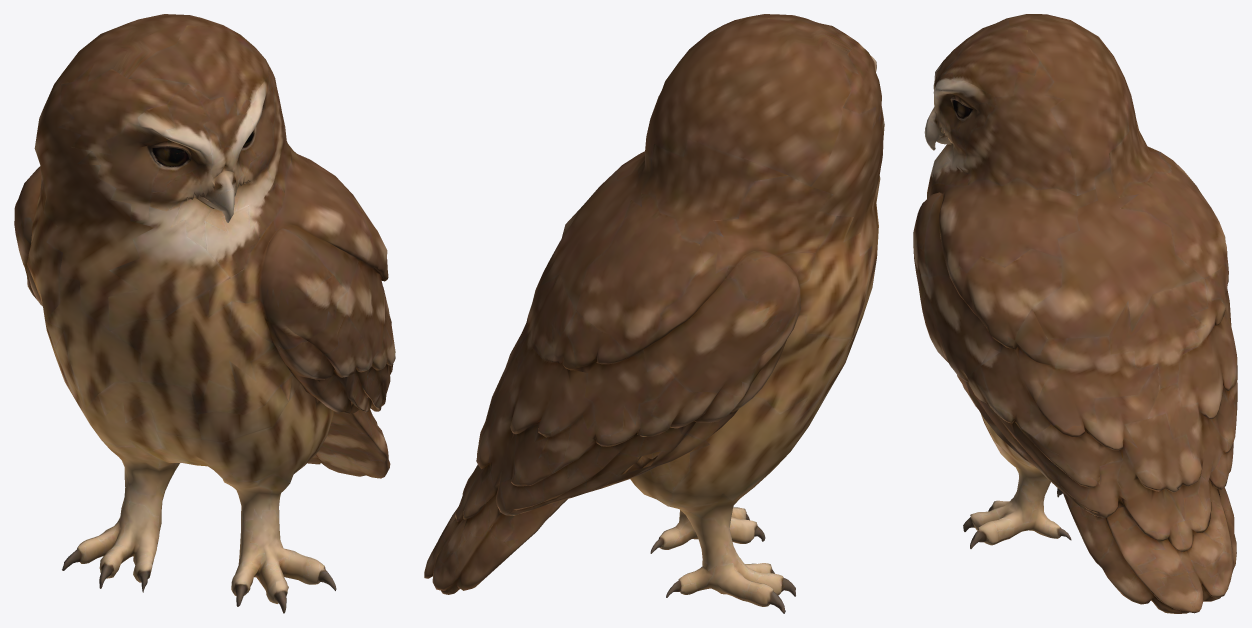
The model's file is owl-mottled.glb.
The picture shows the model from 3 angles, left to right: view 1: azimuth 30°, elevation 25°; view 2: azimuth 150°, elevation 25°; view 3: azimuth 270°, elevation 25°; orthographic projection. The views are drawn at different scales.
Parts seen in each view (by area): view 1: geometry_0; view 2: geometry_0; view 3: geometry_0.
Part boxes in pixels (box(x1,y1,x2,y2)): geometry_0: box(14, 14, 395, 613); geometry_0: box(424, 14, 884, 613); geometry_0: box(913, 14, 1237, 613).
Bounding box in the file's own units: 0.665 × 0.9521 × 0.582.
1 material, 1 textured.
